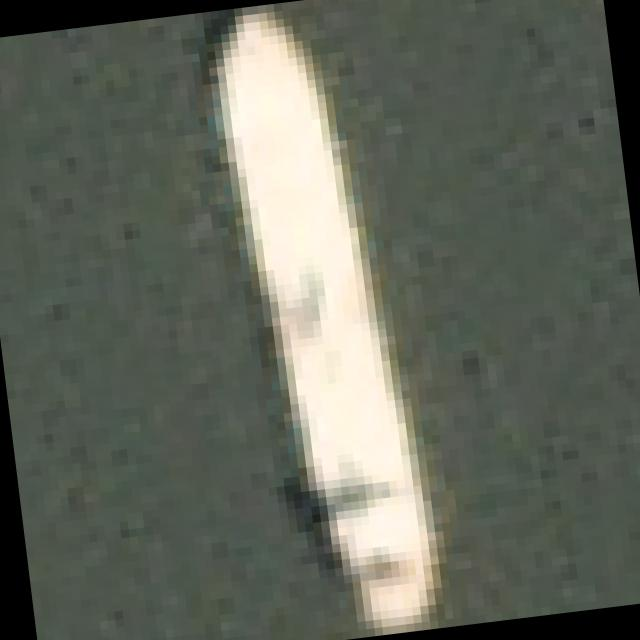ship: (144, 0, 488, 640)
